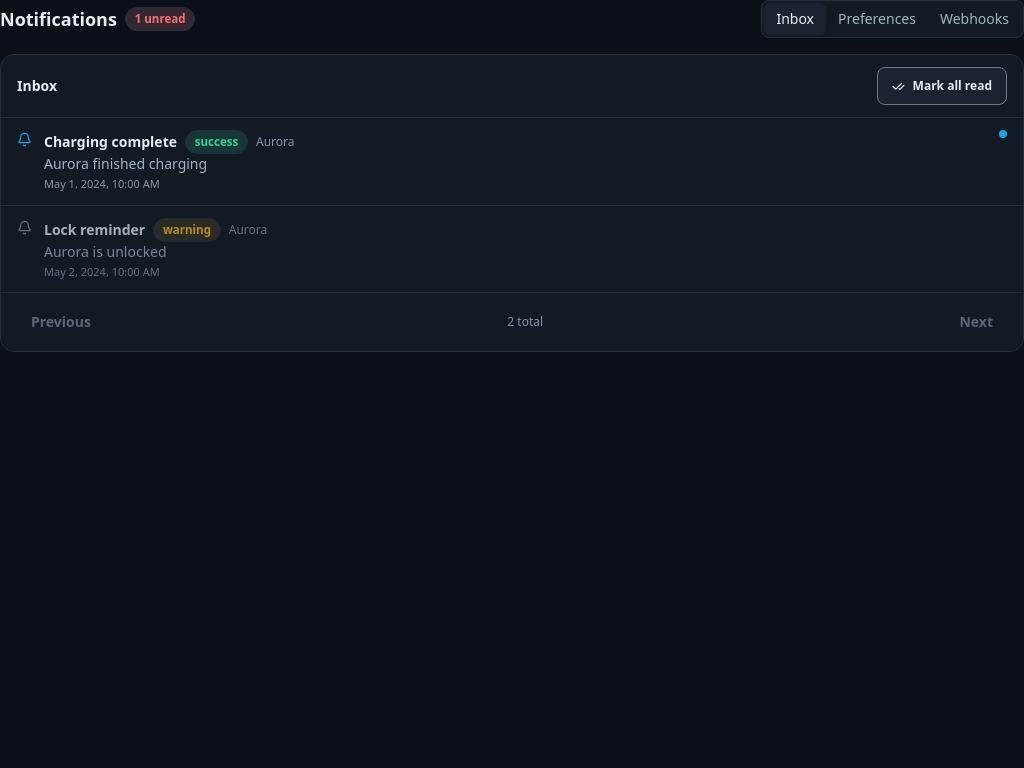
Scenario: NotificationsPage › creates a webhook through the modal and shows the generated secret
Click the tab "webhooks". click: [974, 19]
box: [928,3,1021,35]
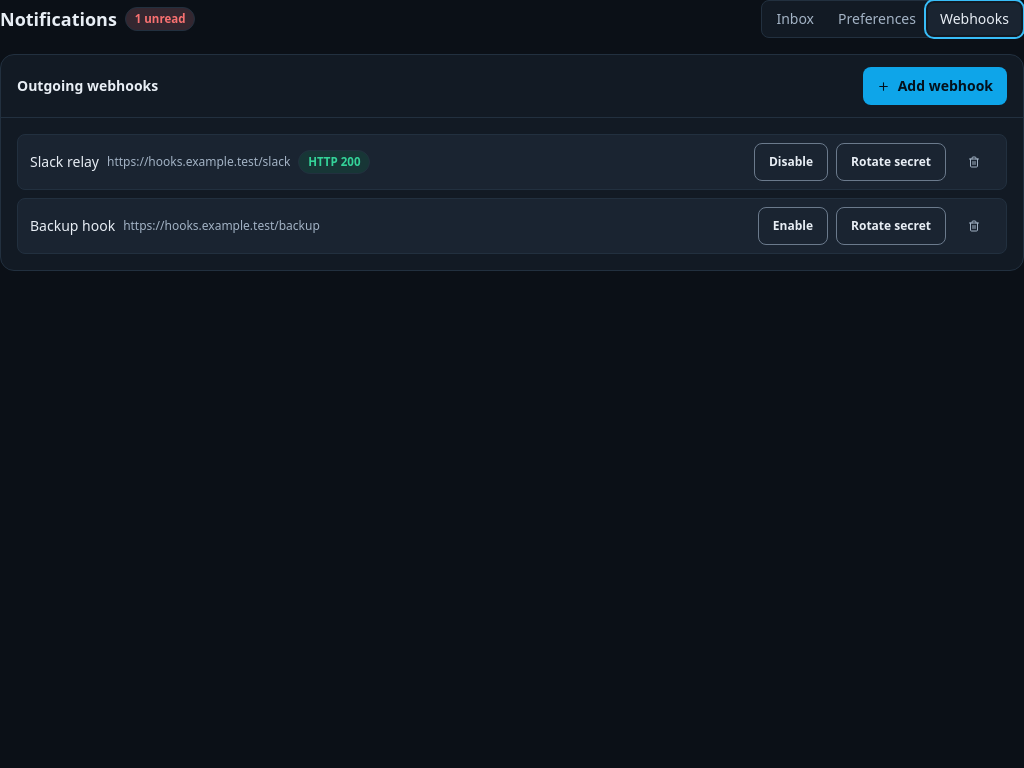
Click the button "Add webhook". click: [935, 86]
box: [863,67,1007,105]
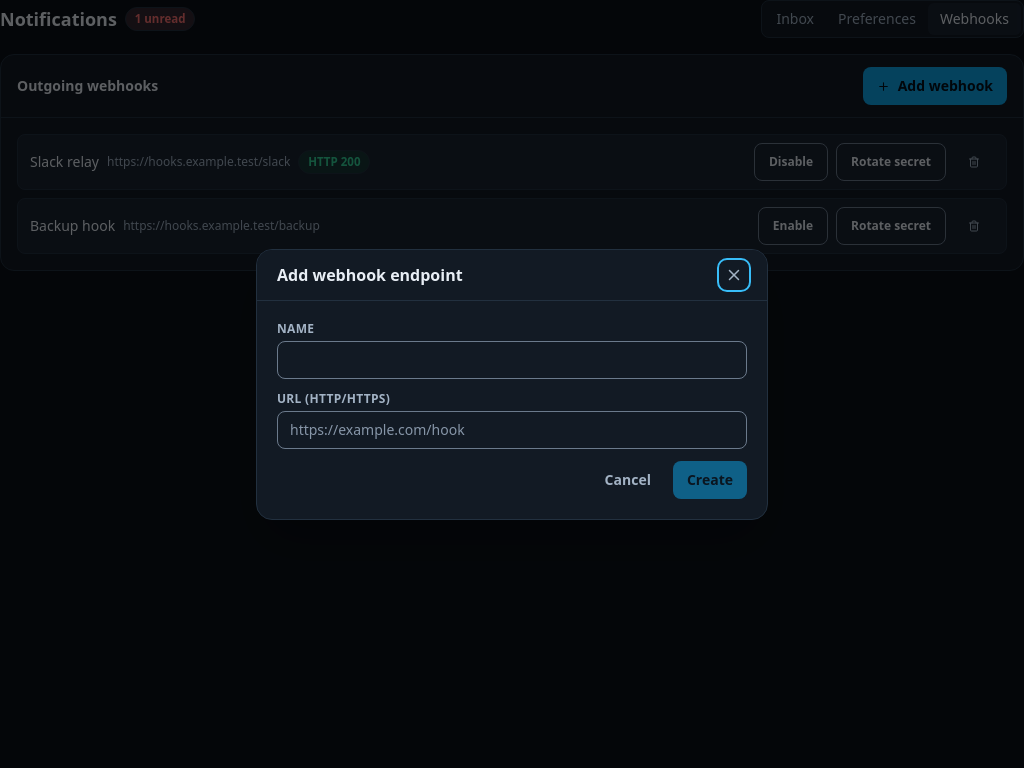
Type "New relay" into the field labelled "Name". click: [512, 360]
box: [277,340,747,378]
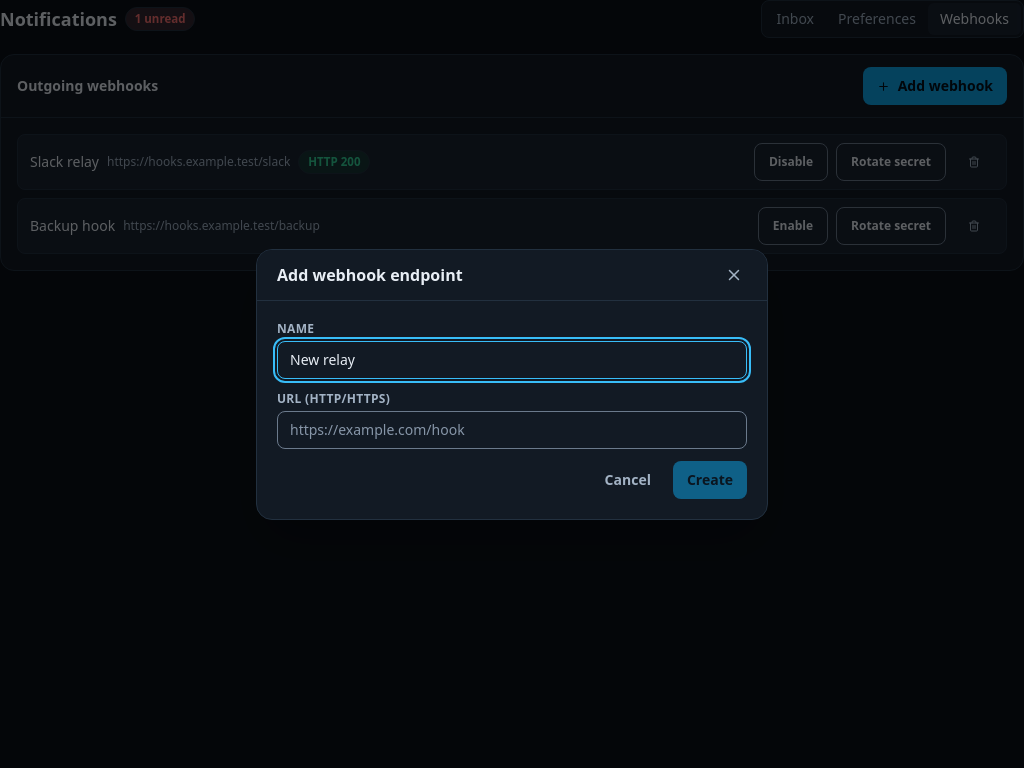
Type "https://hooks.example.test/new" into the field labelled "URL (http/https)". click: [512, 430]
box: [277,410,747,448]
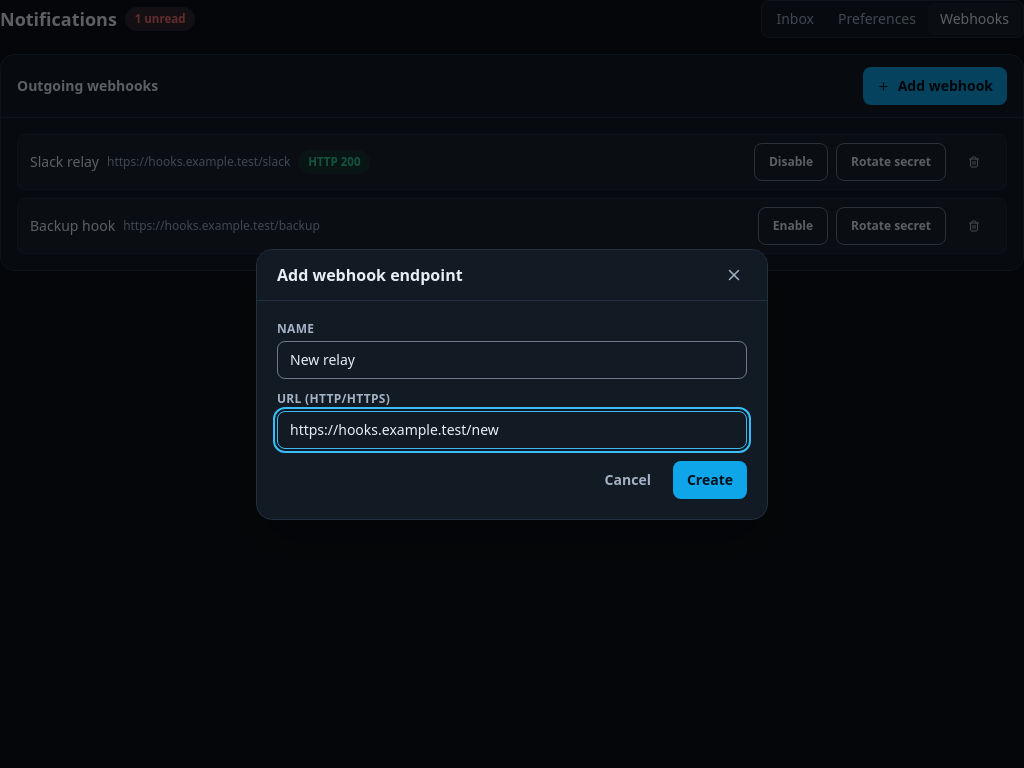
Click the button "Create". click: [710, 480]
box: [673,460,747,498]
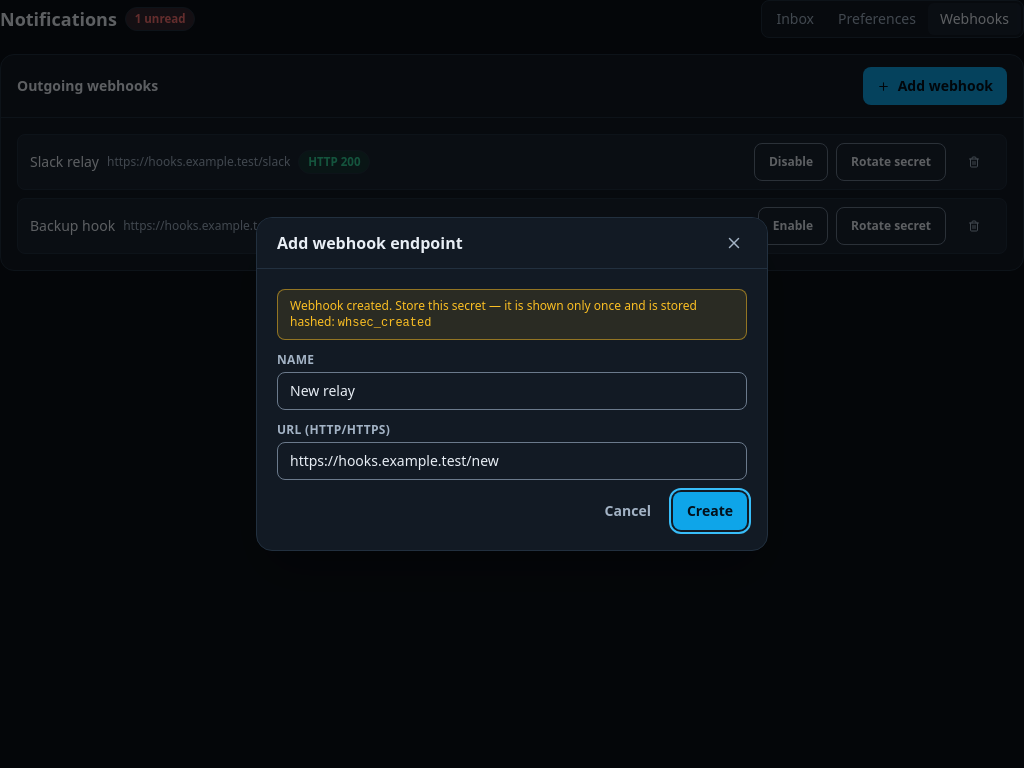
Expected: the text "whsec_created" is shown, [338,316,431,330]
